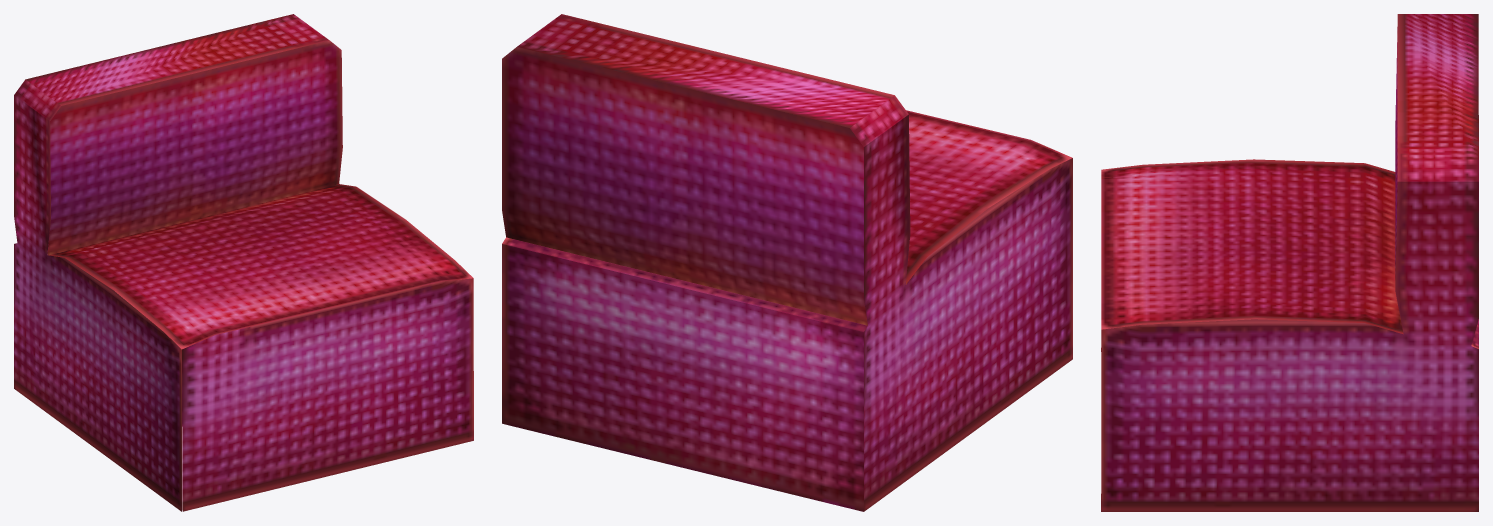
Rendered from furni_0200726.FBX.
3 views of the same model, side by side, from view 1: azimuth 30°, elevation 25°; view 2: azimuth 150°, elevation 25°; view 3: azimuth 270°, elevation 25° (orthographic). The views are drawn at different scales.
Visible parts, largest first — view 1: furni_0200726; view 2: furni_0200726; view 3: furni_0200726.
Boxes of the visible parts, x1,y1,x2,y2 form: furni_0200726: [14, 14, 473, 511]; furni_0200726: [502, 14, 1072, 511]; furni_0200726: [1101, 14, 1478, 511].
Size of the model in its own units: 80.43 by 80.72 by 80.25.
1 material, 1 textured.
